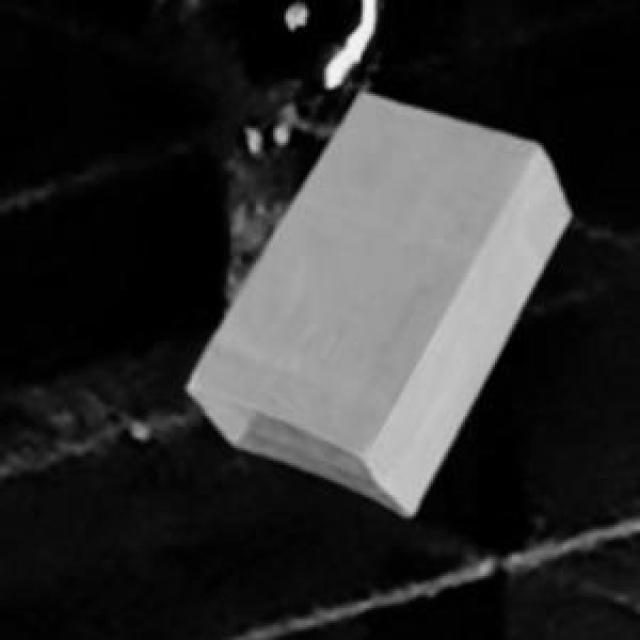paper: (184, 90, 565, 510)
